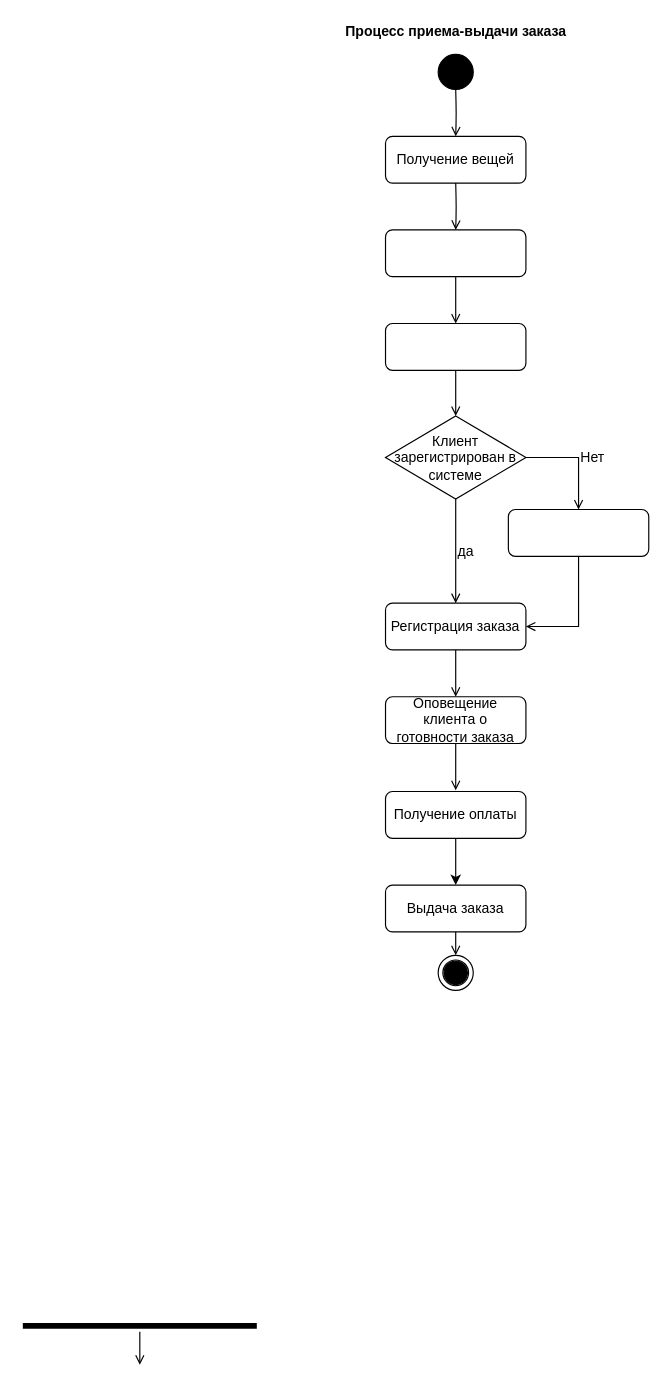
Image size: 669x1395. Some labels were removed from this diagram. Here are the shapes that lost their labels. From the top down, the centre of each, then its label:
At point (455, 253): "Определение вида ремонта".
At point (455, 346): "Денежная оценка ремонта".
At point (578, 532): "Регистрация клиента".
